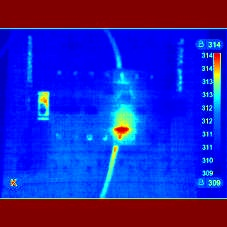Critical: (104, 105, 147, 147)
